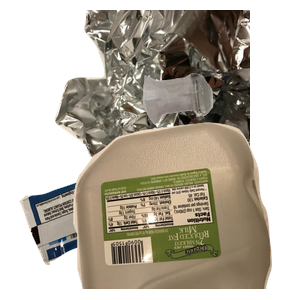glass: (141, 71, 300, 187)
metal: (52, 10, 292, 190)
plastic: (71, 120, 300, 300)
trash: (17, 123, 257, 300)
